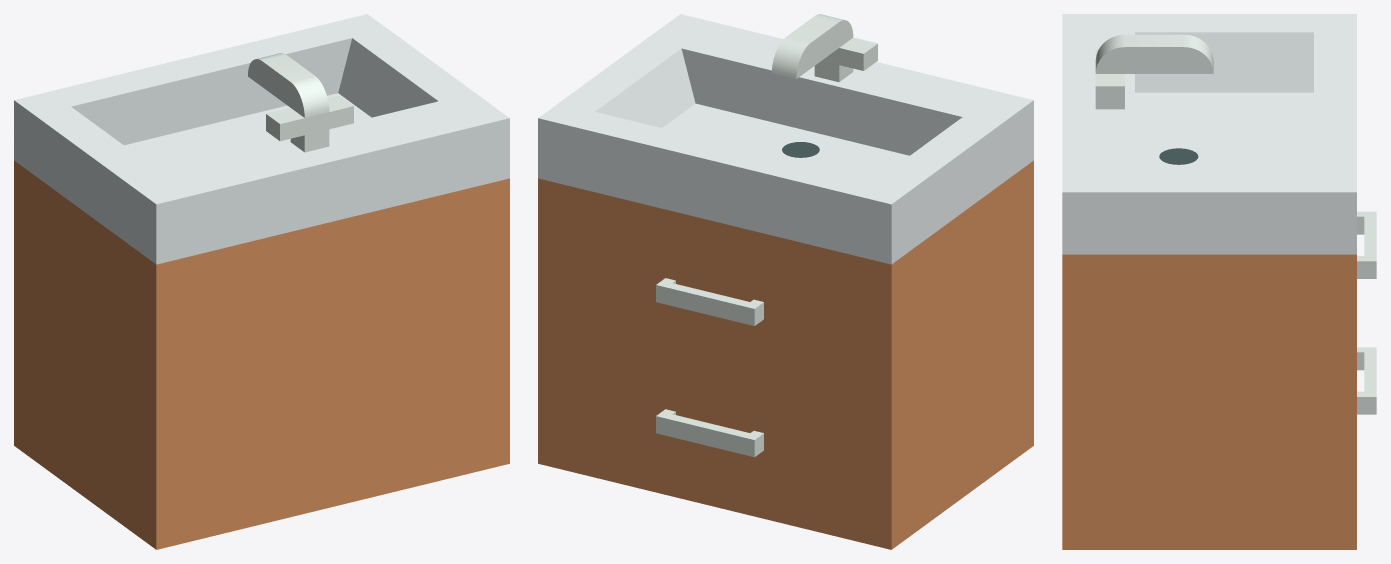
The model's file is Bathroom Cabinet Drawe.glb.
The picture shows the model from 3 angles, left to right: view 1: azimuth 30°, elevation 25°; view 2: azimuth 150°, elevation 25°; view 3: azimuth 270°, elevation 25°; orthographic projection. The views are drawn at different scales.
Parts seen in each view (by area): view 1: bathroomCabinetDrawer; view 2: bathroomCabinetDrawer, drawerBottom, drawerTop; view 3: bathroomCabinetDrawer, drawerBottom, drawerTop.
Part boxes in pixels (box(x1,y1,x2,y2)): bathroomCabinetDrawer: box(14, 14, 509, 549); bathroomCabinetDrawer: box(538, 14, 1033, 549); drawerBottom: box(560, 338, 869, 521); drawerTop: box(560, 207, 869, 389); bathroomCabinetDrawer: box(1062, 14, 1356, 549); drawerBottom: box(1357, 347, 1376, 414); drawerTop: box(1357, 211, 1376, 278).
Size of the model in its own units: 0.43 by 0.4718 by 0.32.
